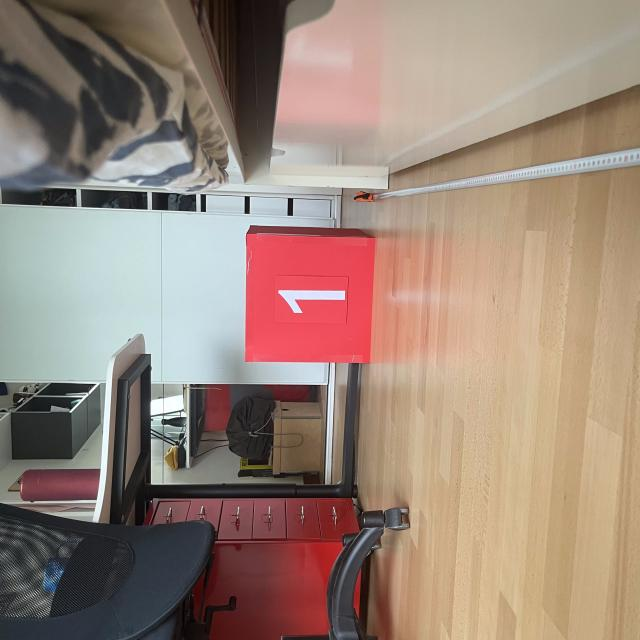box: (240, 221, 379, 365)
